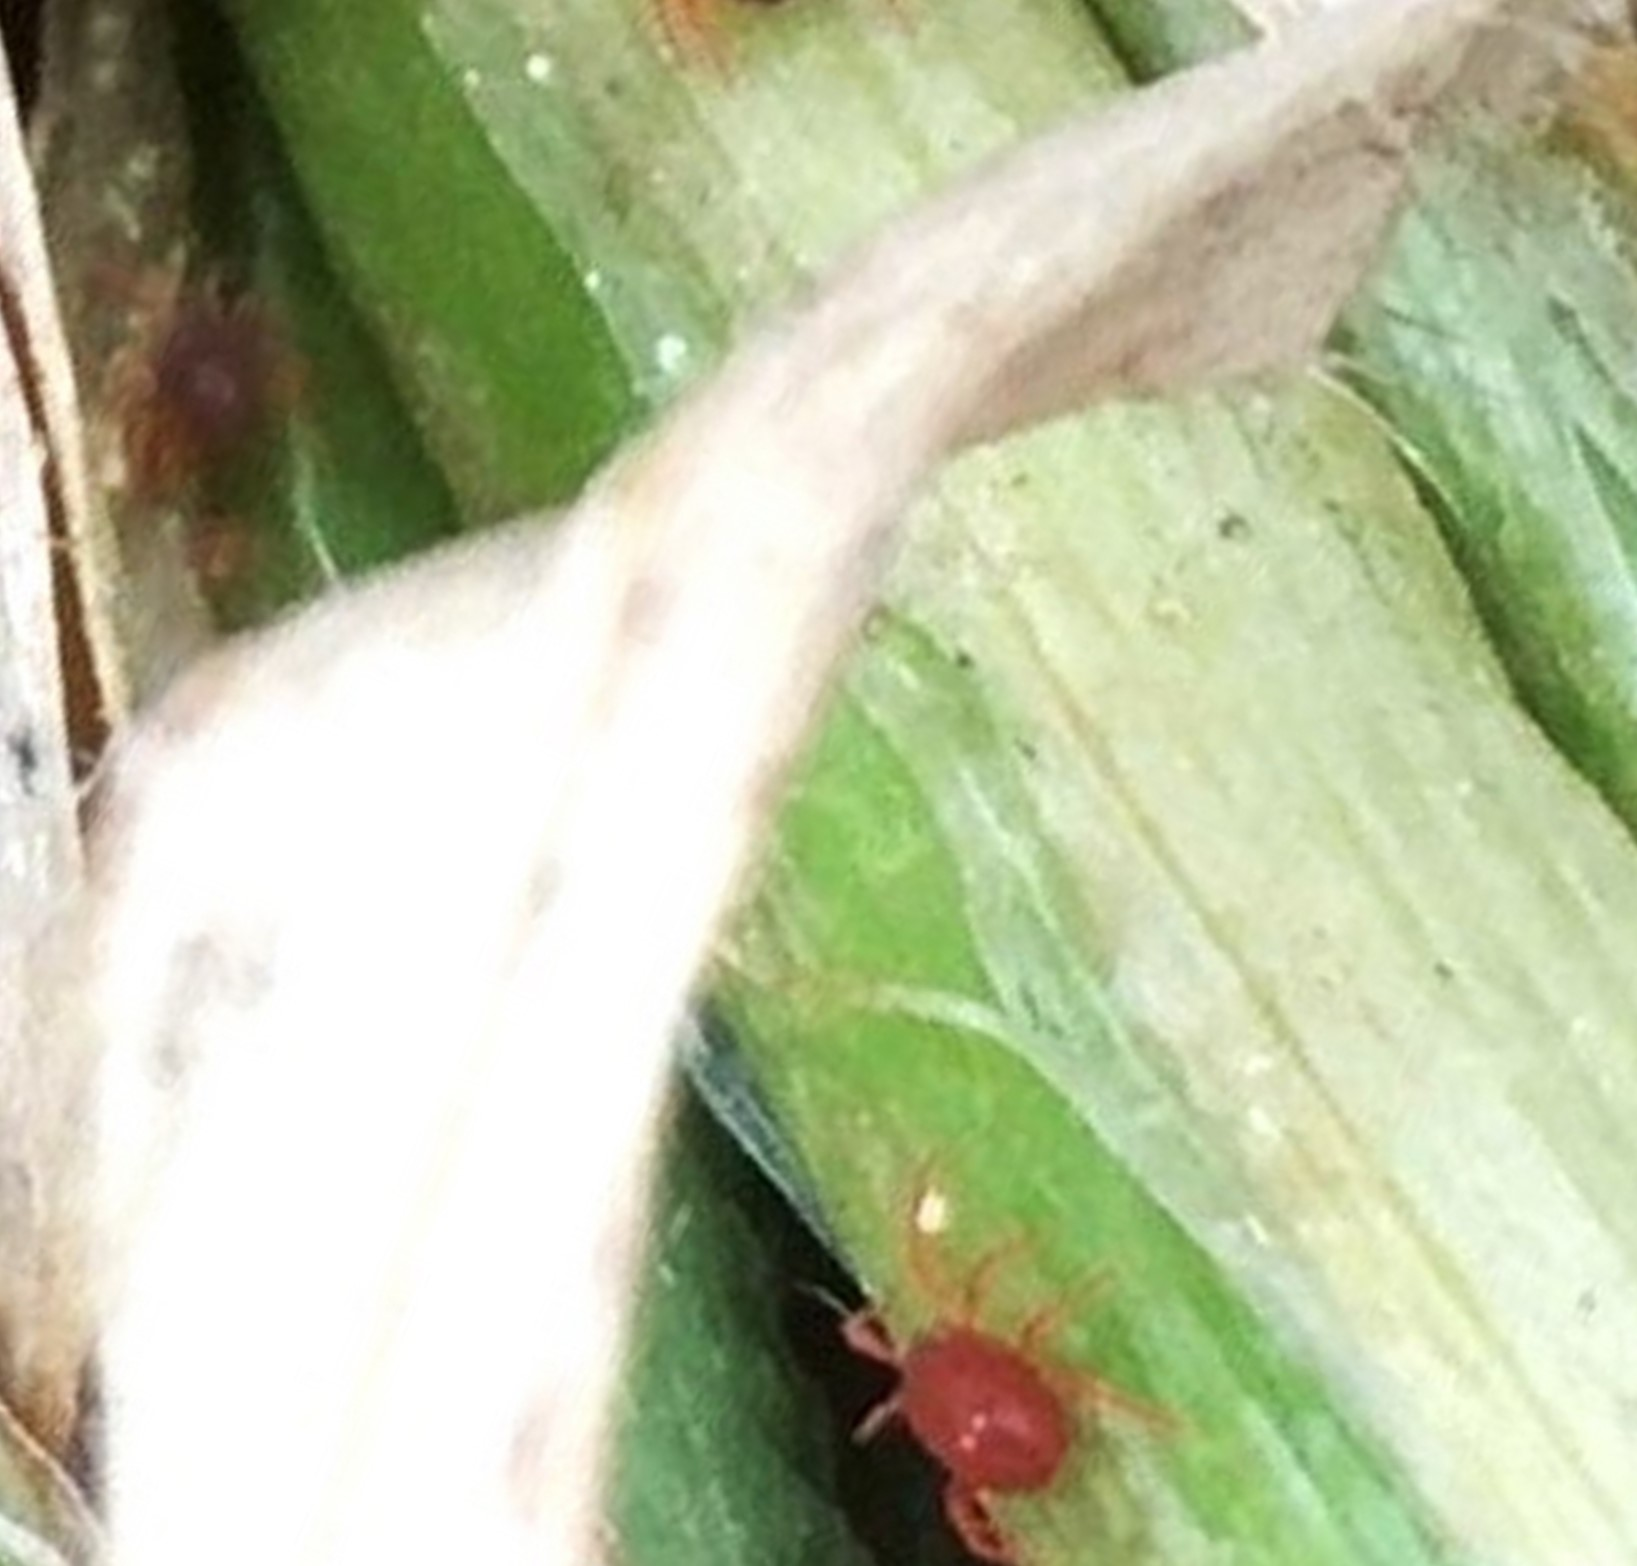Wheat Red Spider: (769, 1157, 1196, 1566)
